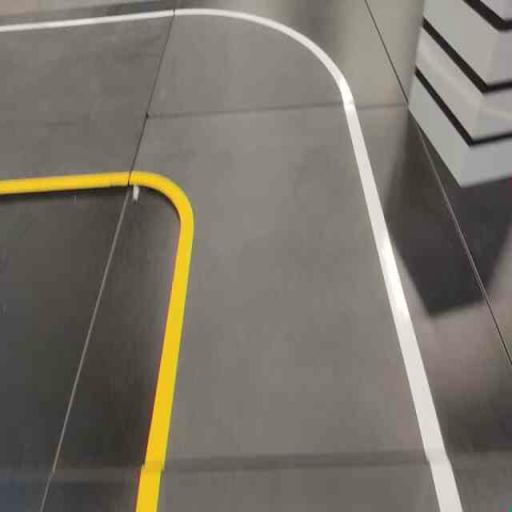left: (117, 0, 408, 236)
